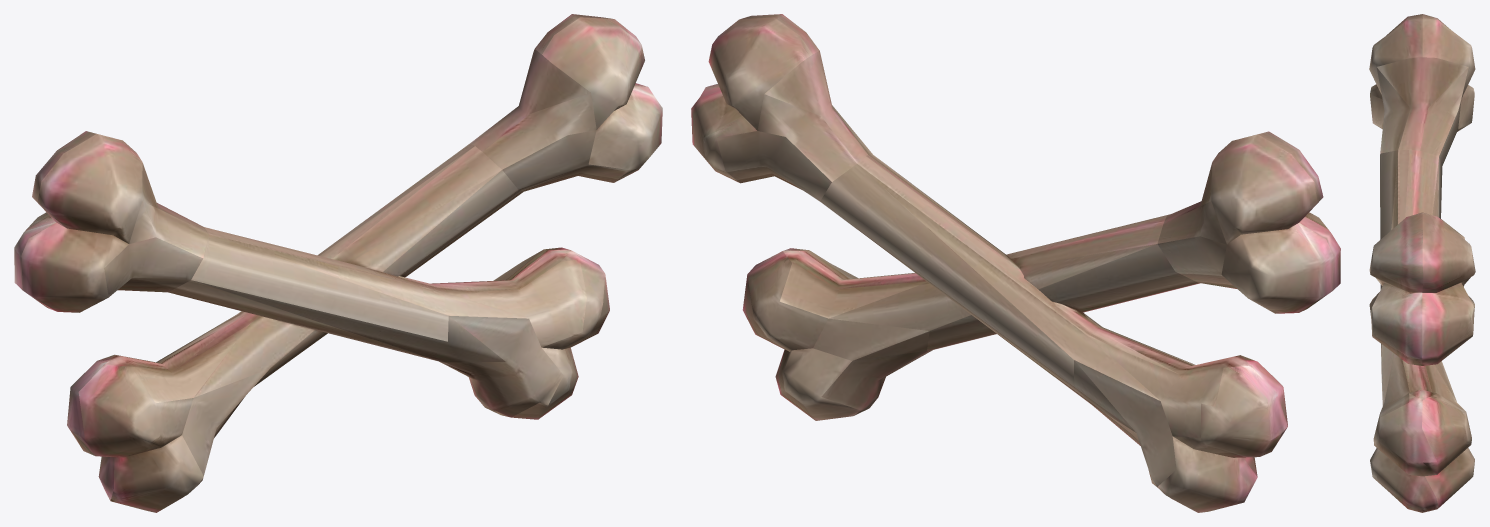
The model's file is crossbones.glb.
3 renders of one model, left to right at view 1: azimuth 30°, elevation 25°; view 2: azimuth 150°, elevation 25°; view 3: azimuth 270°, elevation 25°, orthographic. The views are drawn at different scales.
Visible parts, largest first — view 1: mesh_node; view 2: mesh_node; view 3: mesh_node.
Part boxes in pixels (x1=…): mesh_node: x1=14, y1=14, x2=662, y2=512; mesh_node: x1=691, y1=14, x2=1340, y2=512; mesh_node: x1=1369, y1=14, x2=1475, y2=512.
Bounding box in the file's own units: 1 × 0.5859 × 0.1763.
Materials: 1 (1 with a texture image).
